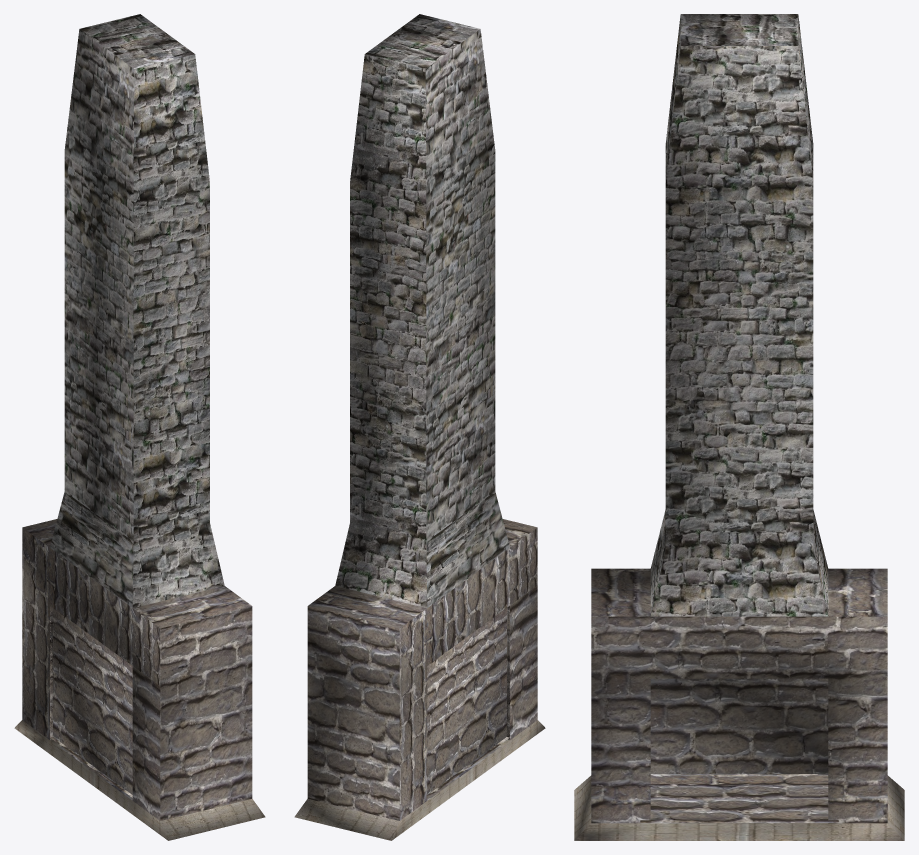
The model's file is fireplace.fbx.
3 renders of one model, left to right at view 1: azimuth 30°, elevation 25°; view 2: azimuth 150°, elevation 25°; view 3: azimuth 270°, elevation 25°, orthographic. The views are drawn at different scales.
Parts seen in each view (by area): view 1: Fireplace; view 2: Fireplace; view 3: Fireplace.
Part boxes in pixels (x1,y1,x2,y2): Fireplace: [14, 14, 265, 840]; Fireplace: [294, 14, 545, 840]; Fireplace: [574, 14, 904, 840].
Size of the model in its own units: 2.28 by 16.4 by 6.27.
3 materials, 3 textured.
